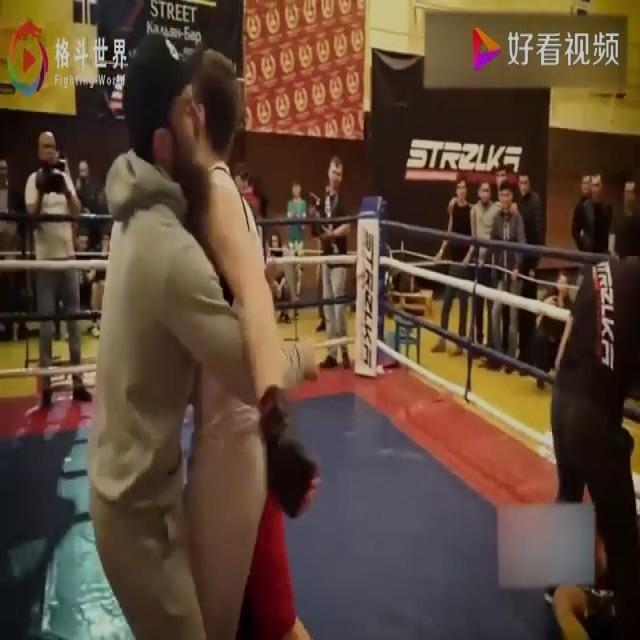fight: (76, 32, 318, 639)
non-fight: (536, 163, 639, 637), (18, 123, 86, 354), (478, 179, 528, 376), (431, 172, 480, 360), (316, 152, 352, 335)
